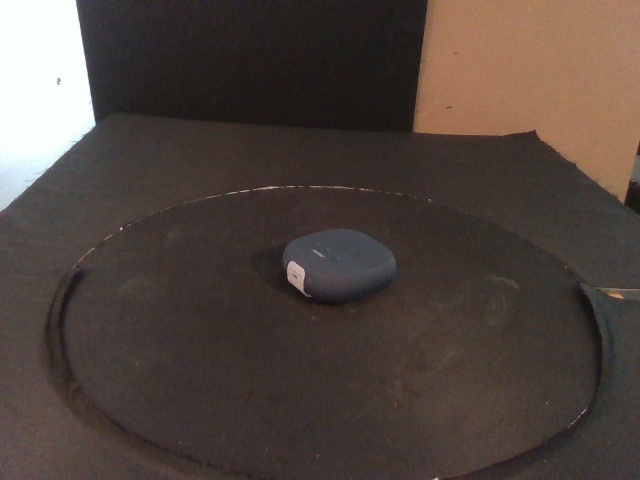speaker: (280, 228, 399, 305)
